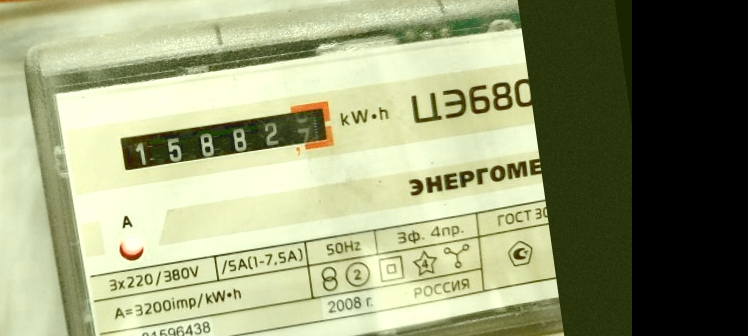1: (131, 138, 149, 168)
2: (261, 119, 281, 149)
5: (163, 134, 185, 163)
7: (294, 124, 312, 143)
8: (196, 130, 215, 160), (229, 124, 248, 154)
screen: (104, 91, 345, 185)
